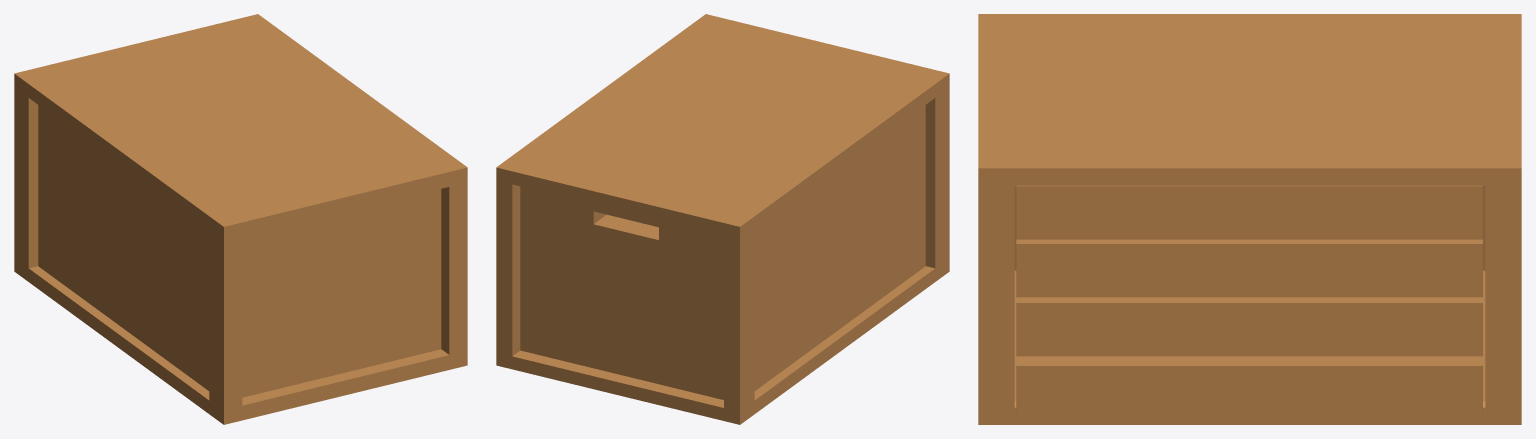
Rendered from Crates1.obj.
The picture shows the model from 3 angles, left to right: view 1: azimuth 30°, elevation 25°; view 2: azimuth 150°, elevation 25°; view 3: azimuth 270°, elevation 25°; orthographic projection. The views are drawn at different scales.
Visible parts, largest first — view 1: Cube; view 2: Cube; view 3: Cube.
Boxes of the visible parts, x1,y1,x2,y2 form: Cube: [14, 14, 467, 424]; Cube: [496, 14, 949, 424]; Cube: [978, 14, 1521, 424].
Bounding box in the file's own units: 2.15 × 1.67 × 3.2.
